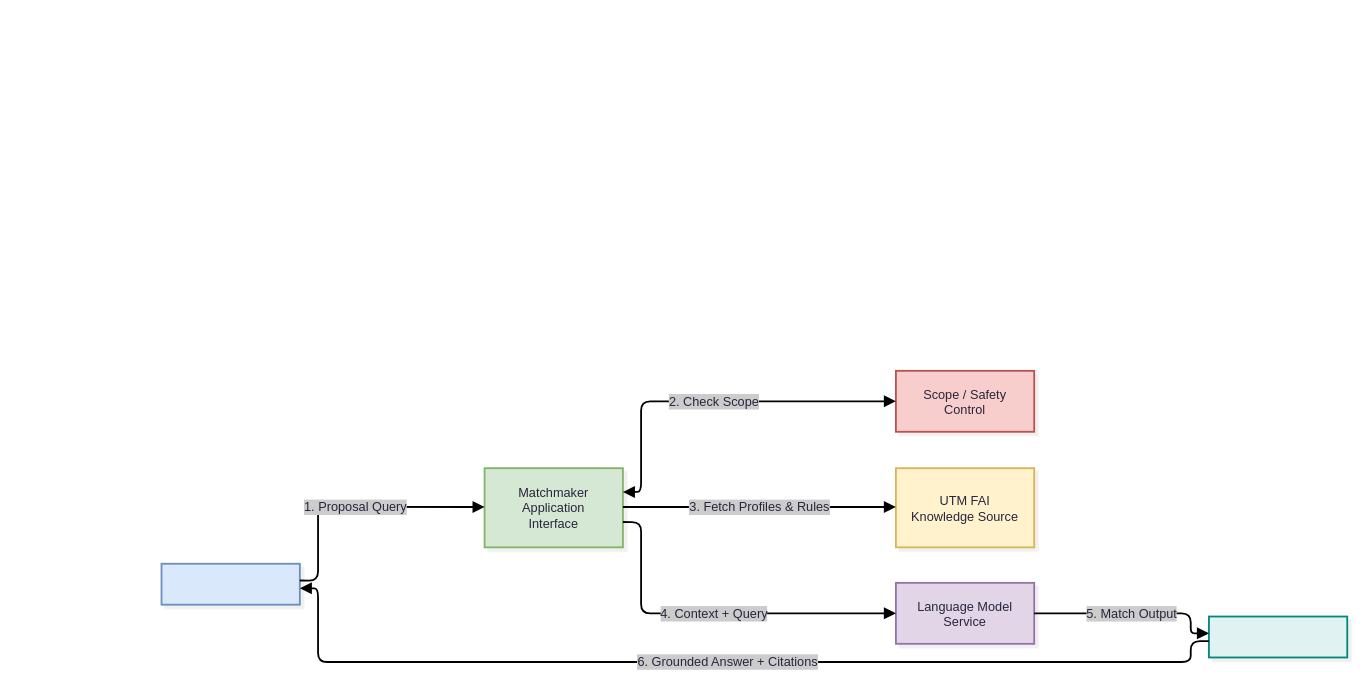
This 1367x687 diagram has some shape labels left out. The centre of each missing label's shape, as x and y in pixels:
"Evaluation Point" goes at pixel 1279 638.
"Student / User" goes at pixel 232 585.
